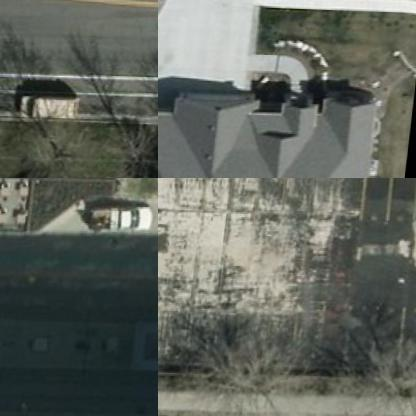car: (92, 200, 156, 234), (17, 94, 84, 124)
